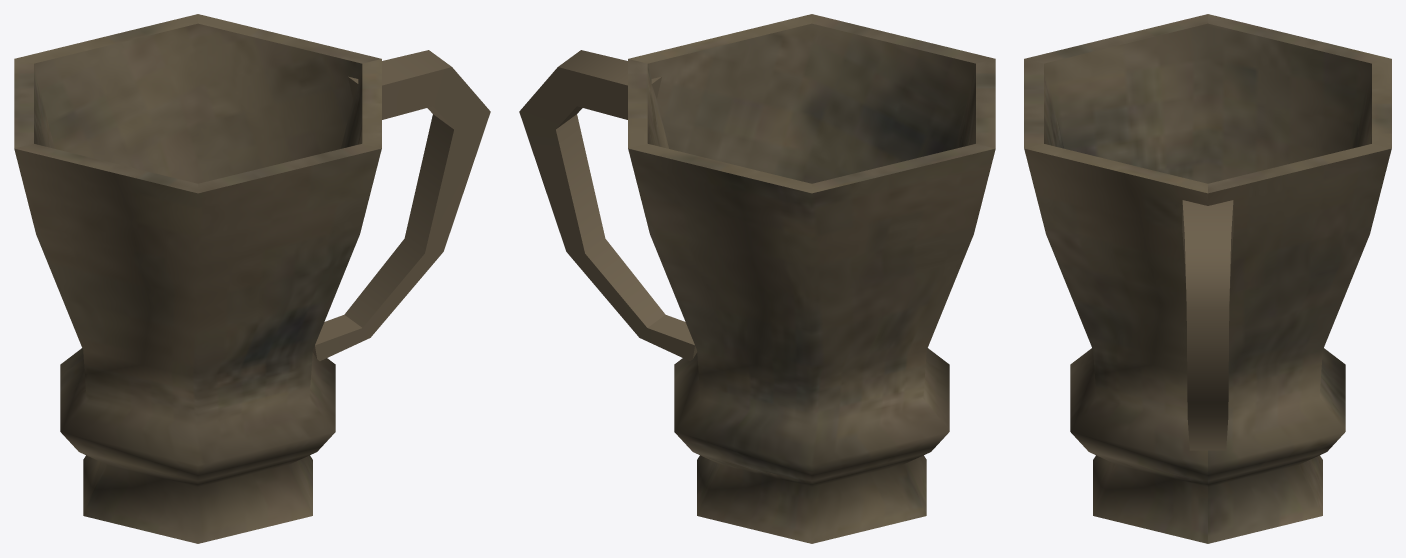
The model's file is mug01.glb.
3 views of the same model, side by side, from view 1: azimuth 30°, elevation 25°; view 2: azimuth 150°, elevation 25°; view 3: azimuth 270°, elevation 25° (orthographic).
Parts seen in each view (by area): view 1: mug01; view 2: mug01; view 3: mug01.
Part boxes in pixels (bbox=[...]): mug01: bbox=[14, 14, 490, 543]; mug01: bbox=[519, 14, 995, 543]; mug01: bbox=[1024, 14, 1391, 543].
Size of the model in its own units: 0.1523 by 0.12 by 0.1041.
1 material, 1 textured.
